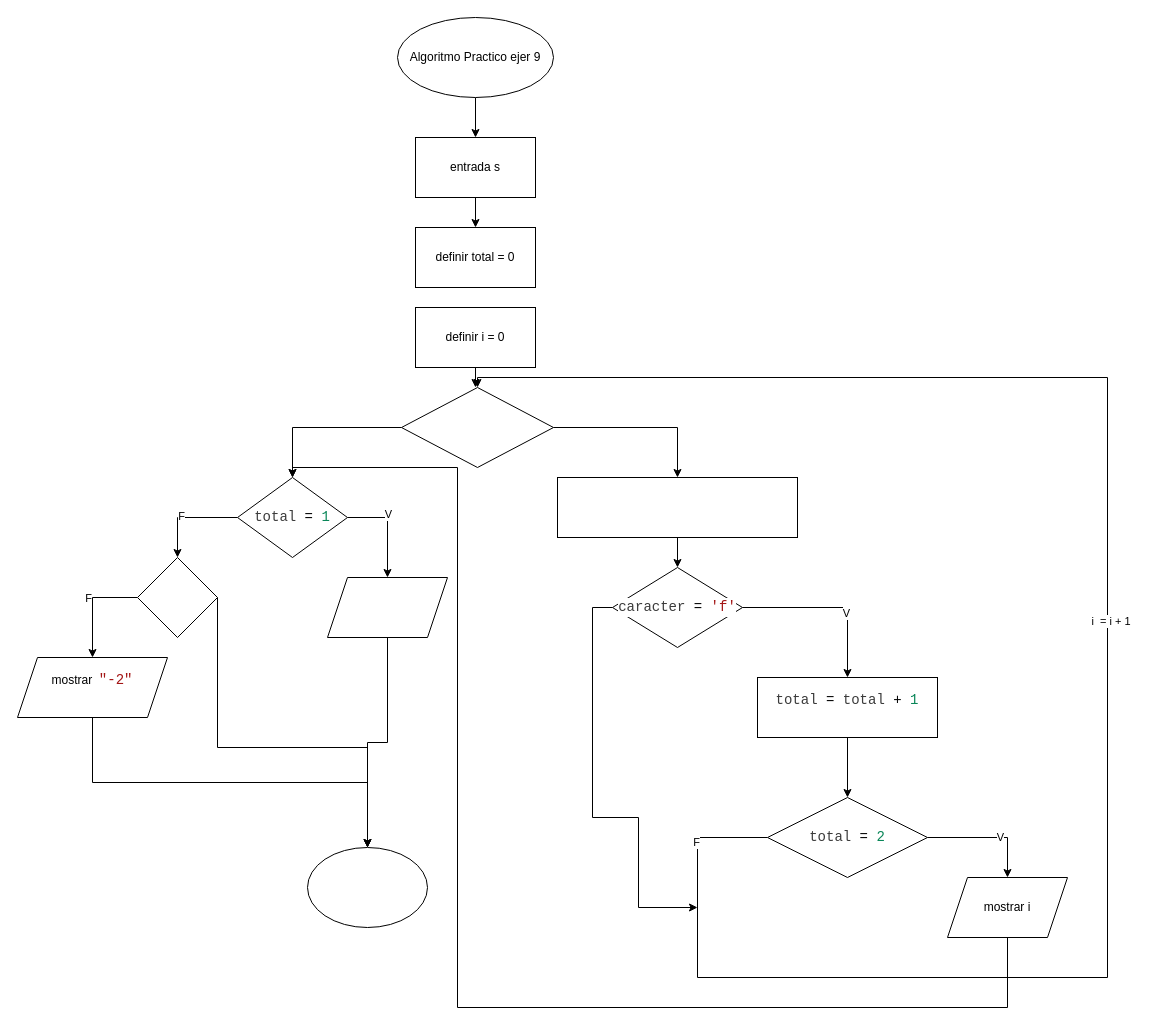
This 1150x1033 diagram has some shape labels left out. The shapes that lost their labels are listed below. From the top down, each one's centre as x and y in pixels, then its label:
[477,427]: i <= s . size ()
[677,507]: definir char caracter = s [i]
[177,597]: total = 0
[387,607]: mostrar "-1"
[367,887]: FinAlgoritmo
